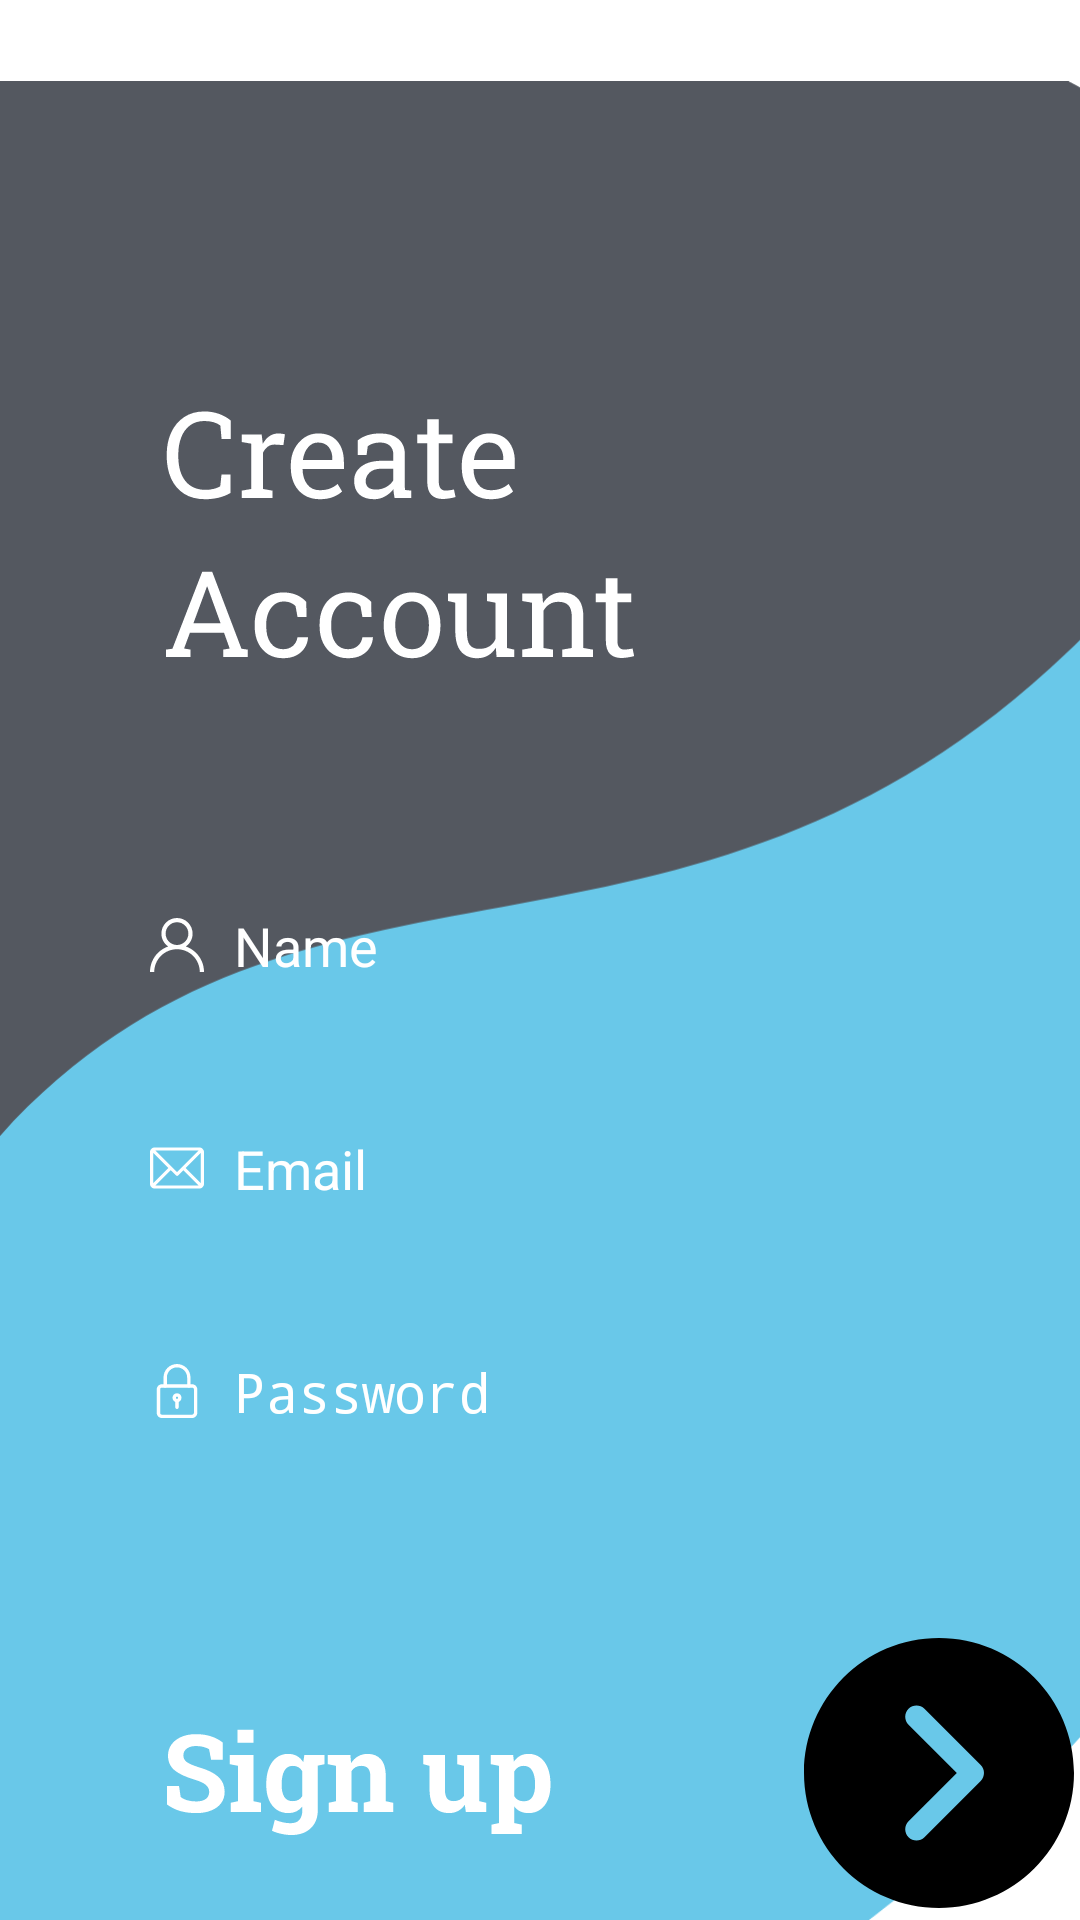

Icons on this 1080 × 1920 Android screen, each with the point to tap as point (x, y):
next: point (939, 1773)
